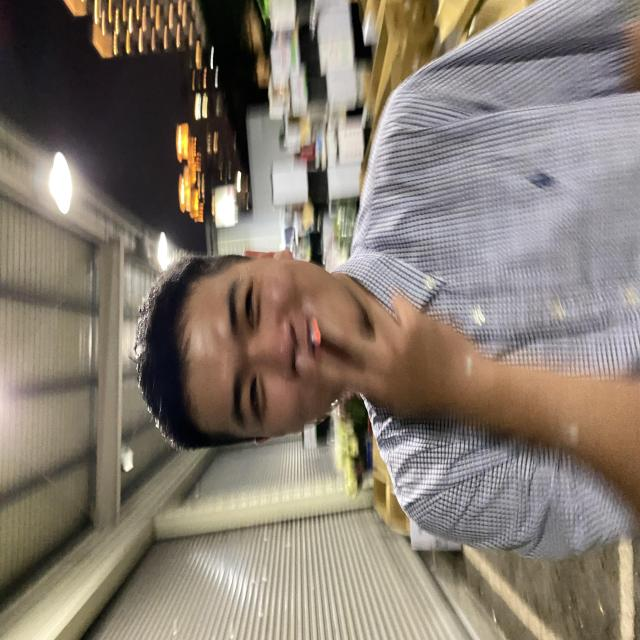cigarette: (300, 308, 336, 365)
